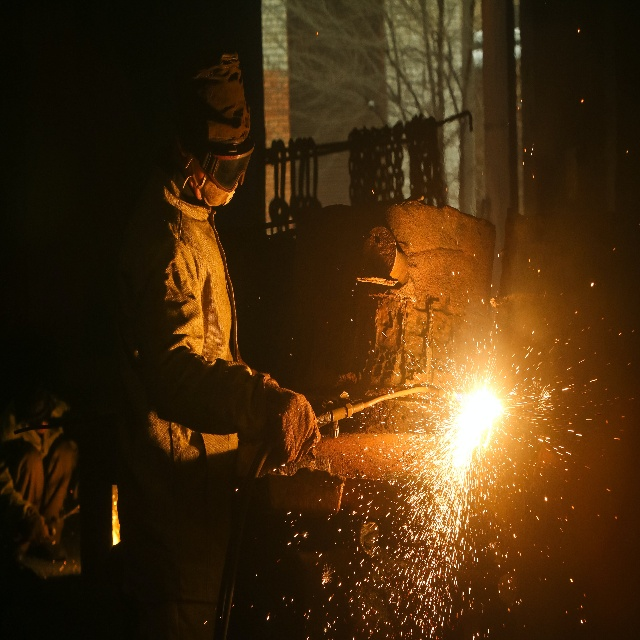Gafas: (184, 134, 255, 191)
Guantes: (263, 376, 322, 464), (24, 504, 53, 547)
Mascara: (182, 146, 236, 208)
